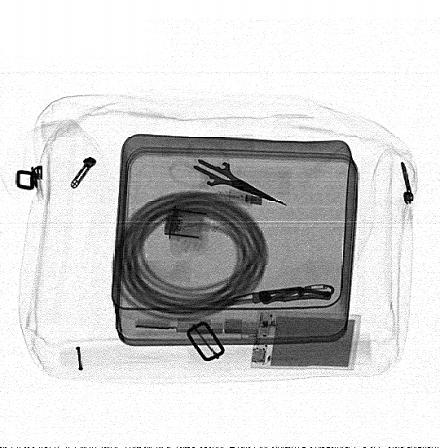Knife: (207, 280, 336, 306)
Powerbank: (248, 307, 362, 372)
Scissors: (169, 138, 293, 207)
